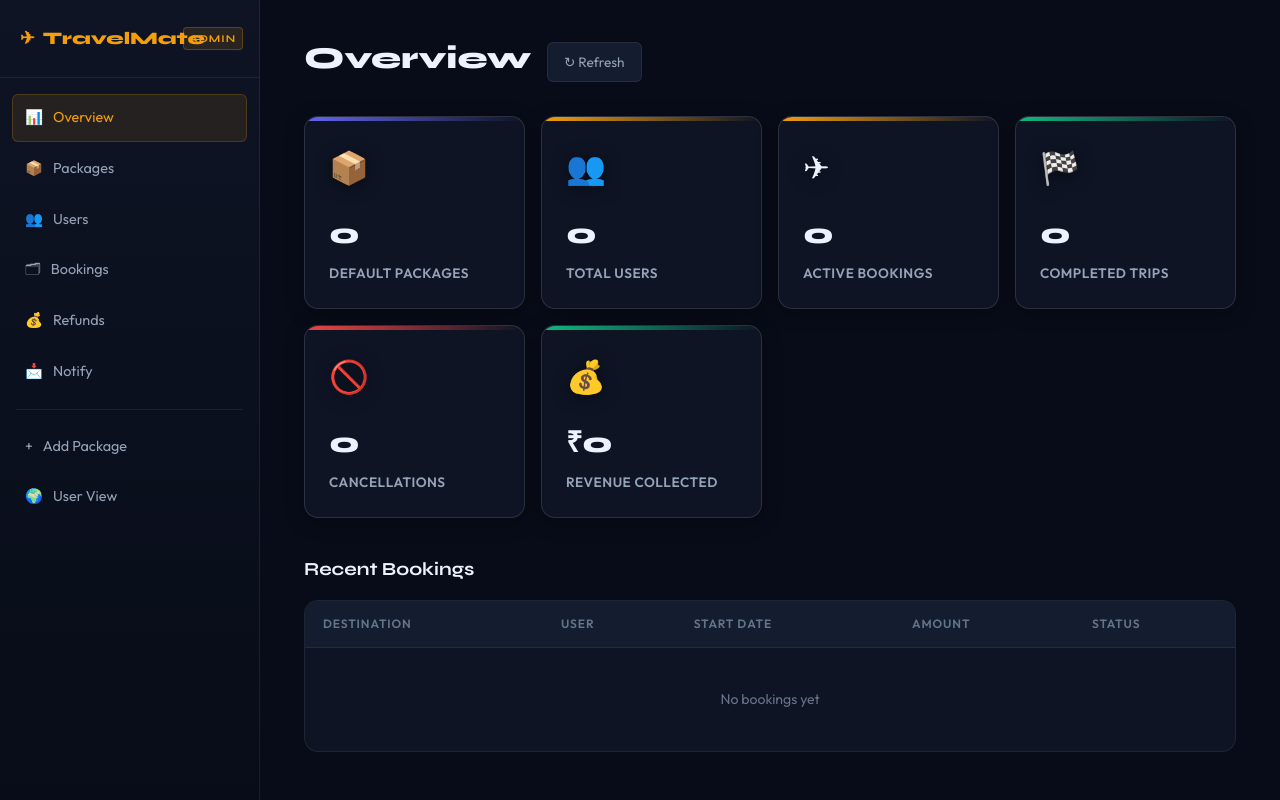
Test case: AdminDashboard Component › sends a notification
Click the text "Notify": x=73, y=372 [53,360,93,384]
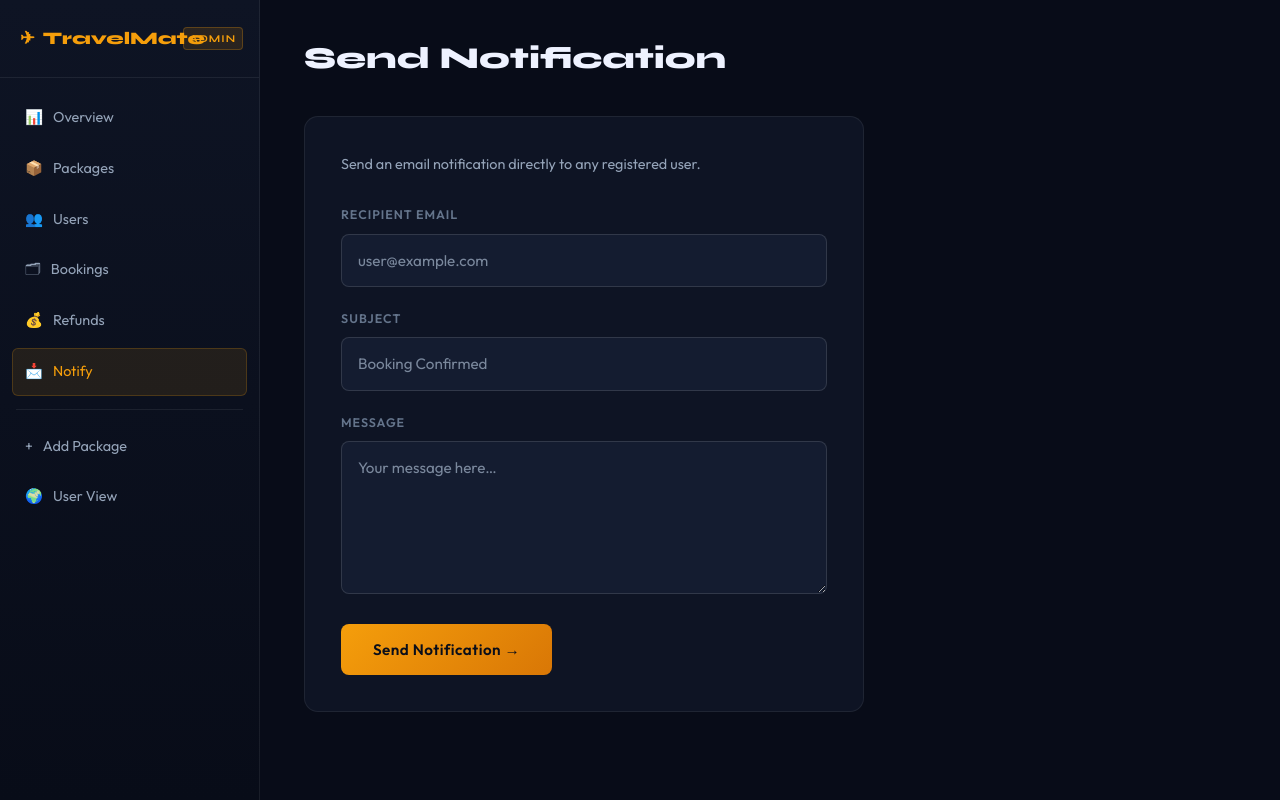
In the field with placeholder "user@example.com": x=584, y=260 [341,234,827,287], type "test@test.com"
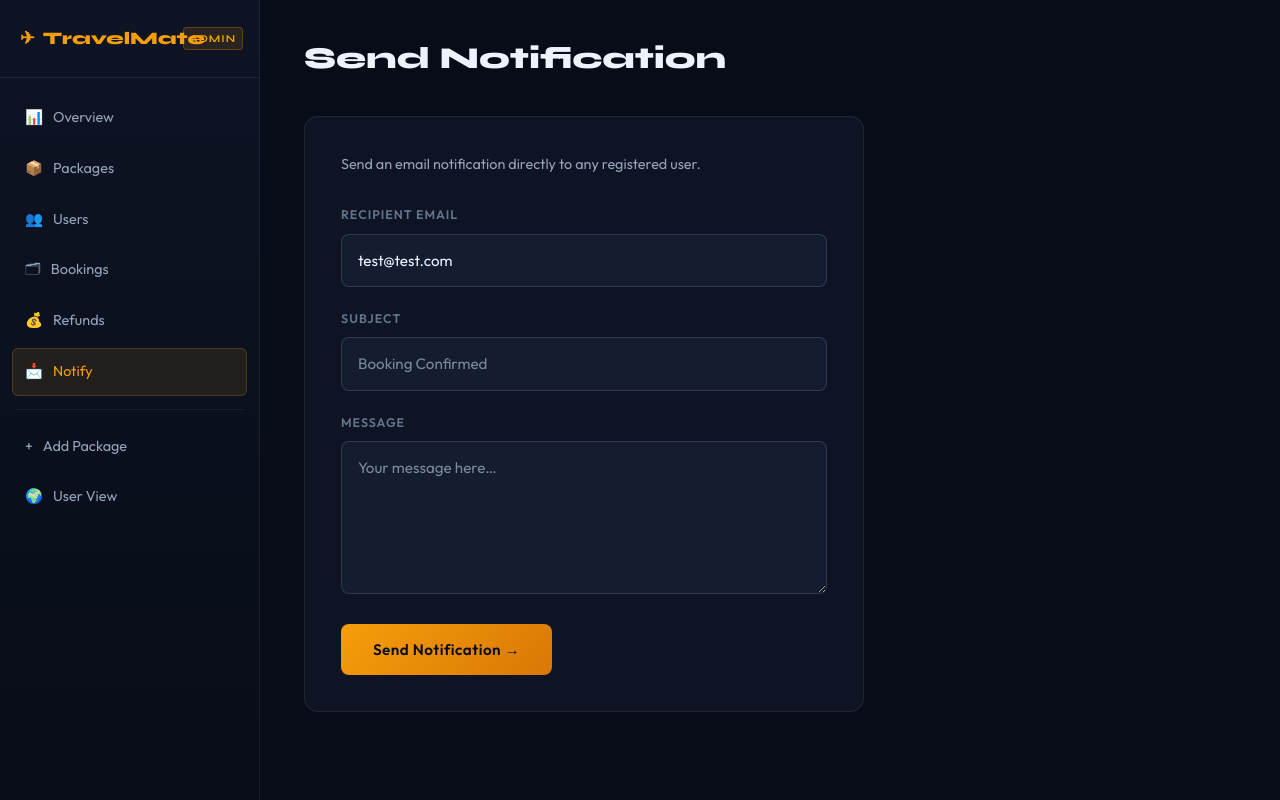
In the field with placeholder "Booking Confirmed": x=584, y=364 [341,338,827,390], type "Hello"
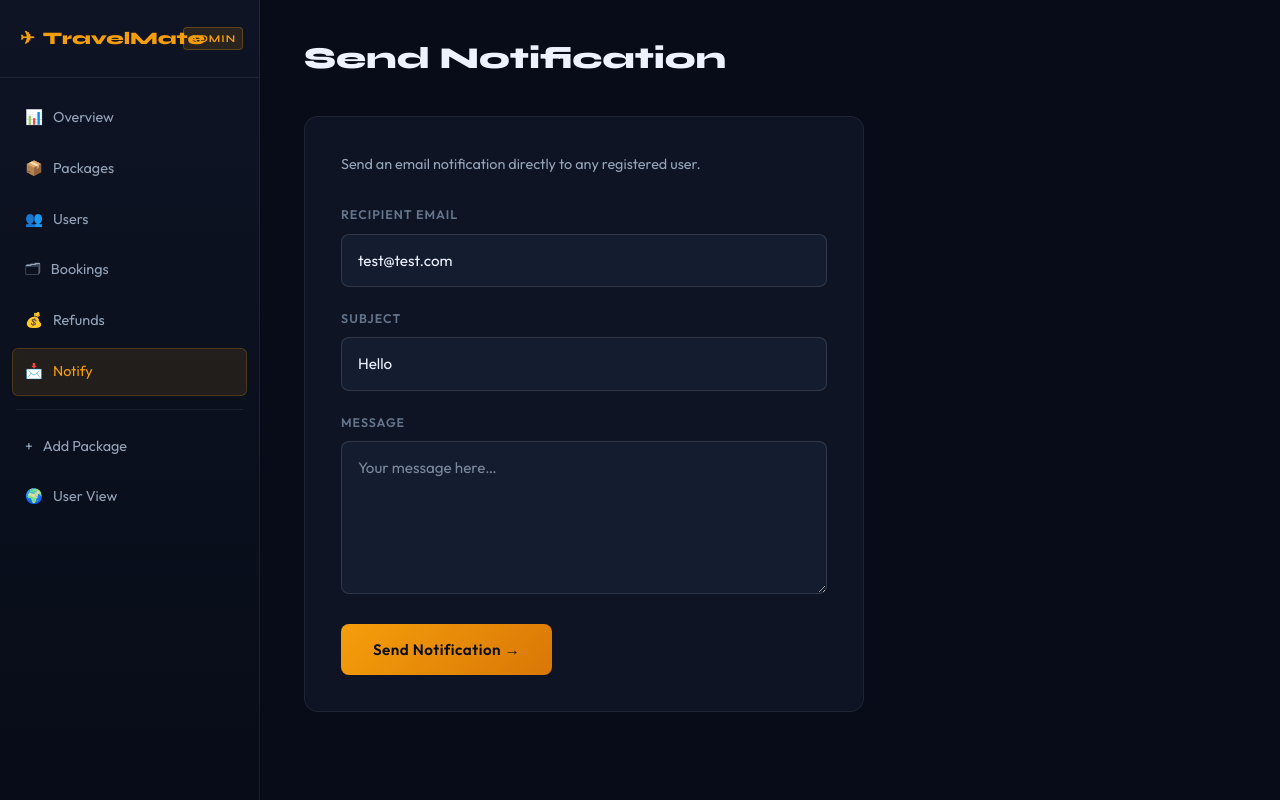
In the text box with placeholder "Your message here…": x=584, y=518 [341,441,827,594], type "Welcome"
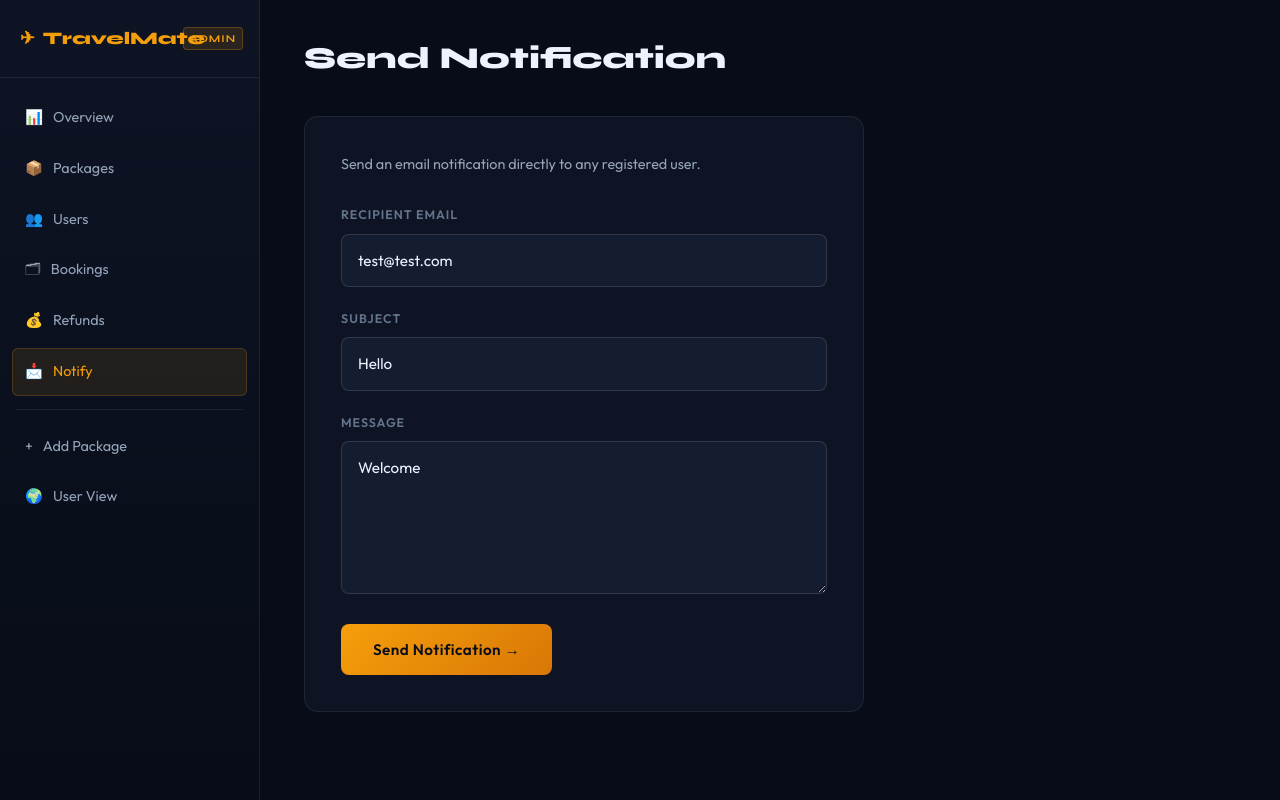
Click the button "Send Notification →": x=447, y=649 [341,624,552,675]
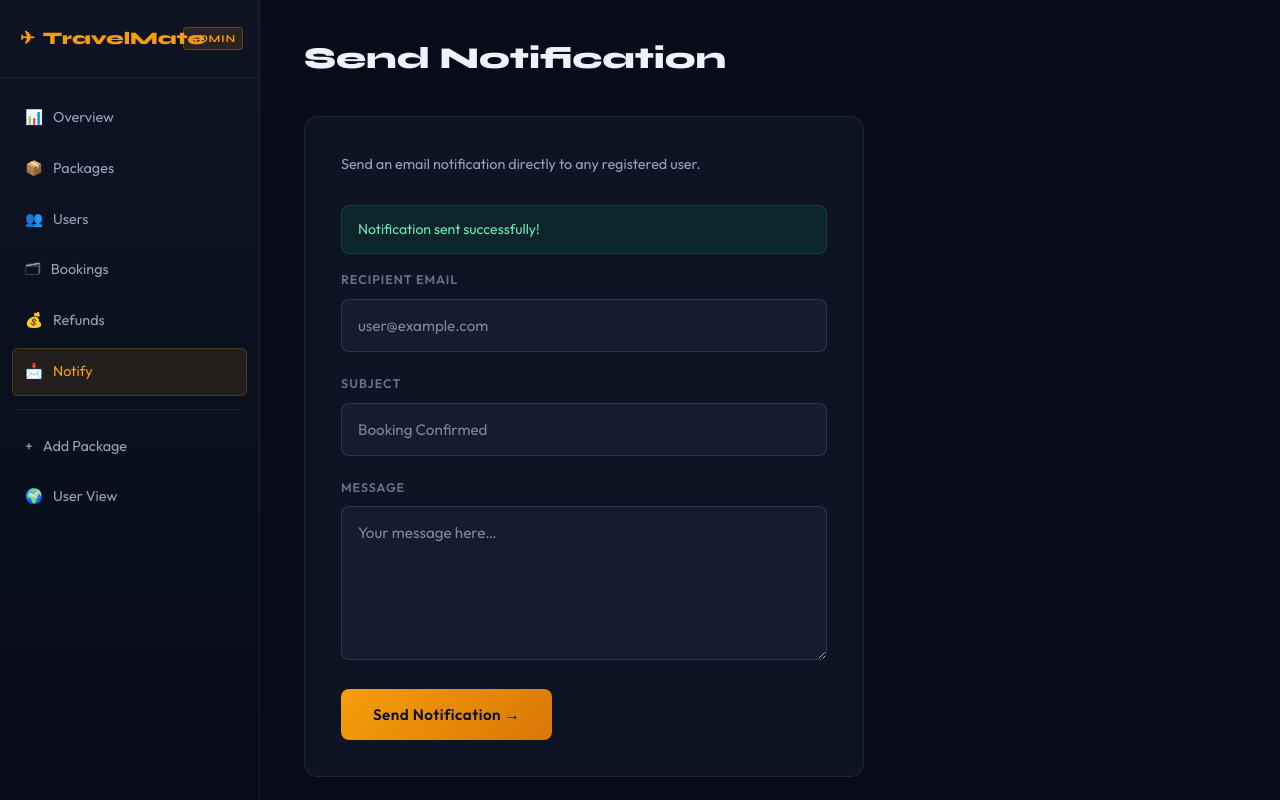
Now the text "Notification sent successfully!" is shown, box [341,205,827,254]
